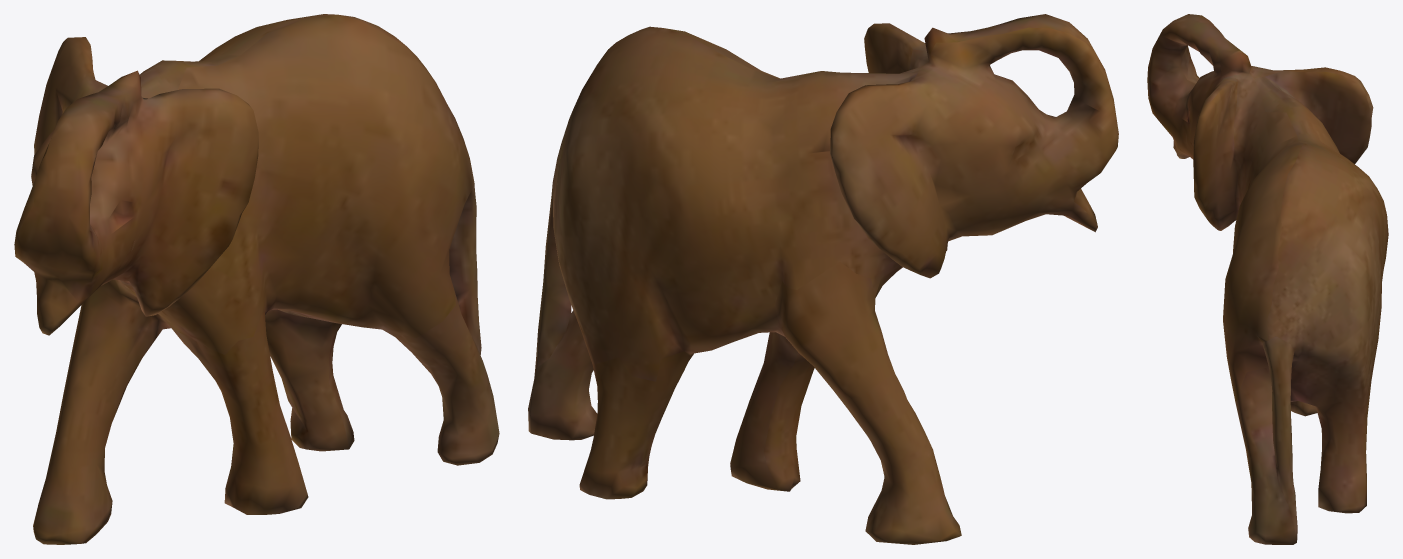
File: elephant.glb
The picture shows the model from 3 angles, left to right: view 1: azimuth 30°, elevation 25°; view 2: azimuth 150°, elevation 25°; view 3: azimuth 270°, elevation 25°; orthographic projection. The views are drawn at different scales.
Parts seen in each view (by area): view 1: carved_wooden_elephant; view 2: carved_wooden_elephant; view 3: carved_wooden_elephant.
Part boxes in pixels (box(x1,y1,x2,y2)): carved_wooden_elephant: box(14, 14, 499, 544); carved_wooden_elephant: box(528, 14, 1118, 544); carved_wooden_elephant: box(1147, 14, 1388, 544).
Size of the model in its own units: 0.1092 by 0.0961 by 0.0576.
1 material, 1 textured.
